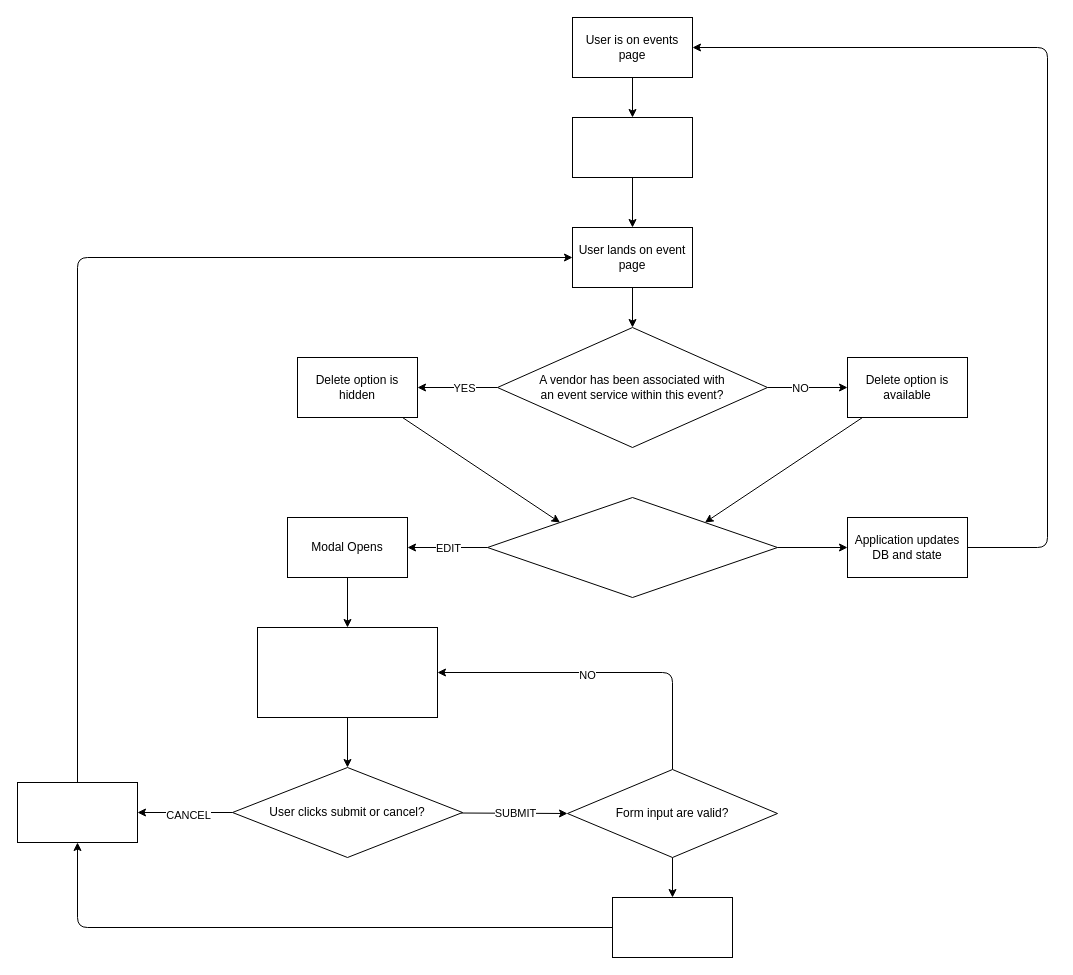
Some shapes in this 1073 by 975 pixel diagram are drawn without their labels. The box of each missing label's shape, as (x1, y1, x2, y2) in pixels:
Application updates DB: (612, 896, 732, 958)
Modal Closes: (16, 782, 138, 842)
User clicks edit or delete (if applicable)?: (486, 496, 778, 598)
User clicks event card: (572, 116, 692, 178)
User fills out event form and adds uploaded image for event: (256, 626, 438, 718)
